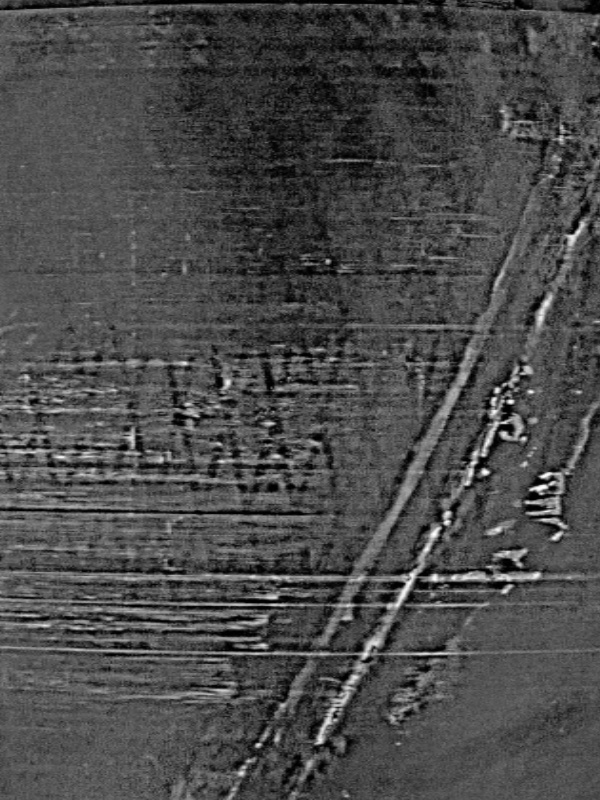splice_vulcanized: (173, 18, 600, 800)
